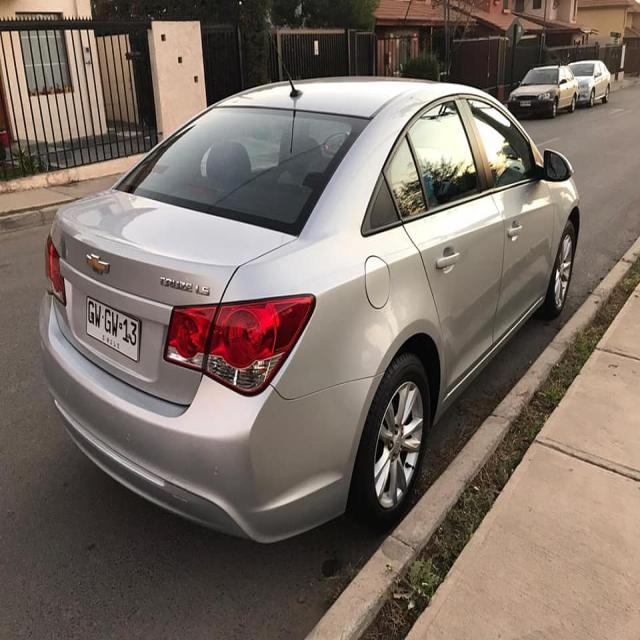patente: (84, 294, 141, 363)
